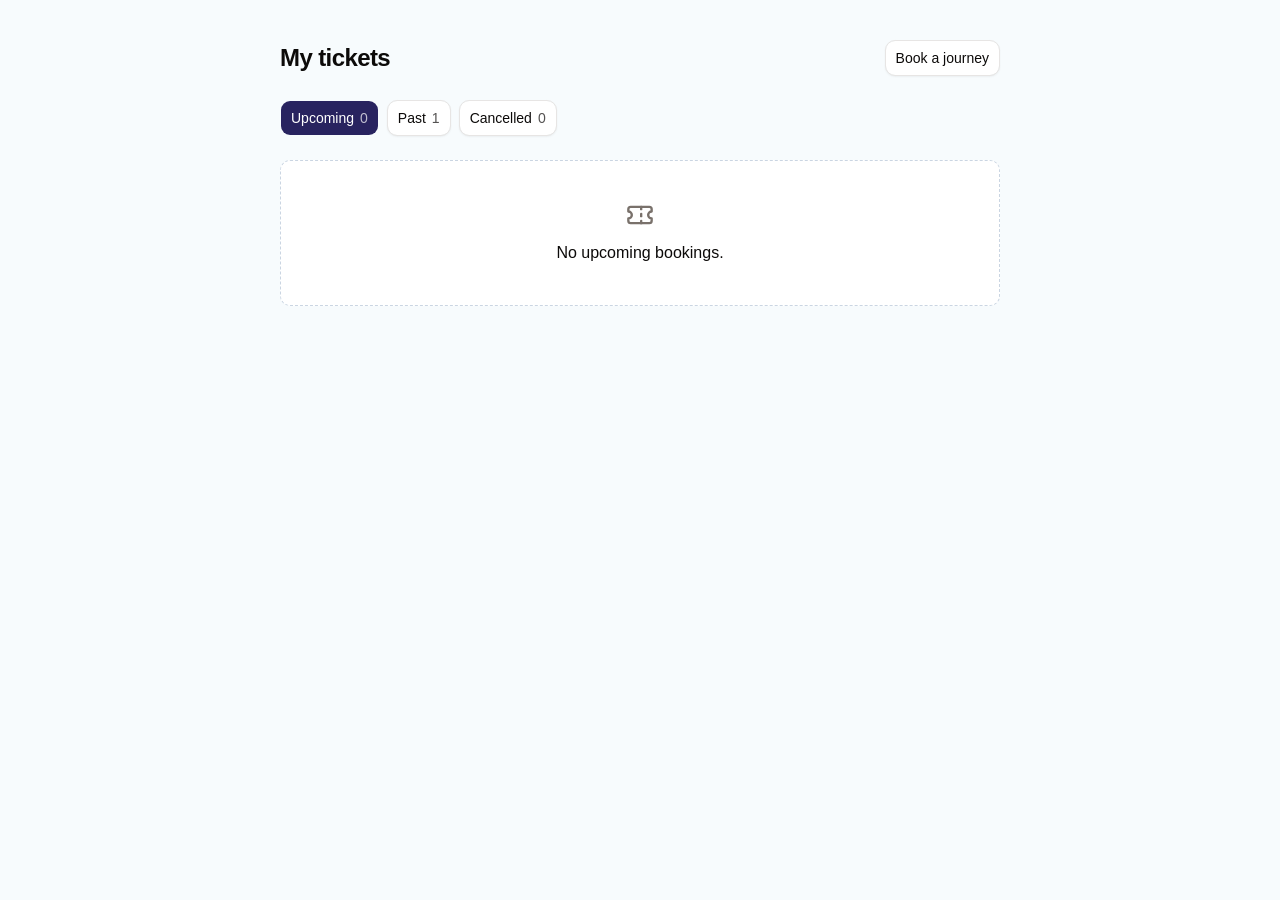
MyTicketsPage › shows booking details without a QR code for a ticket that cannot be used to board
What coordinates should you click on to do the following:
click the button "Past 1"
I would click on:
 (419, 118)
Its box is [387,100,451,136].
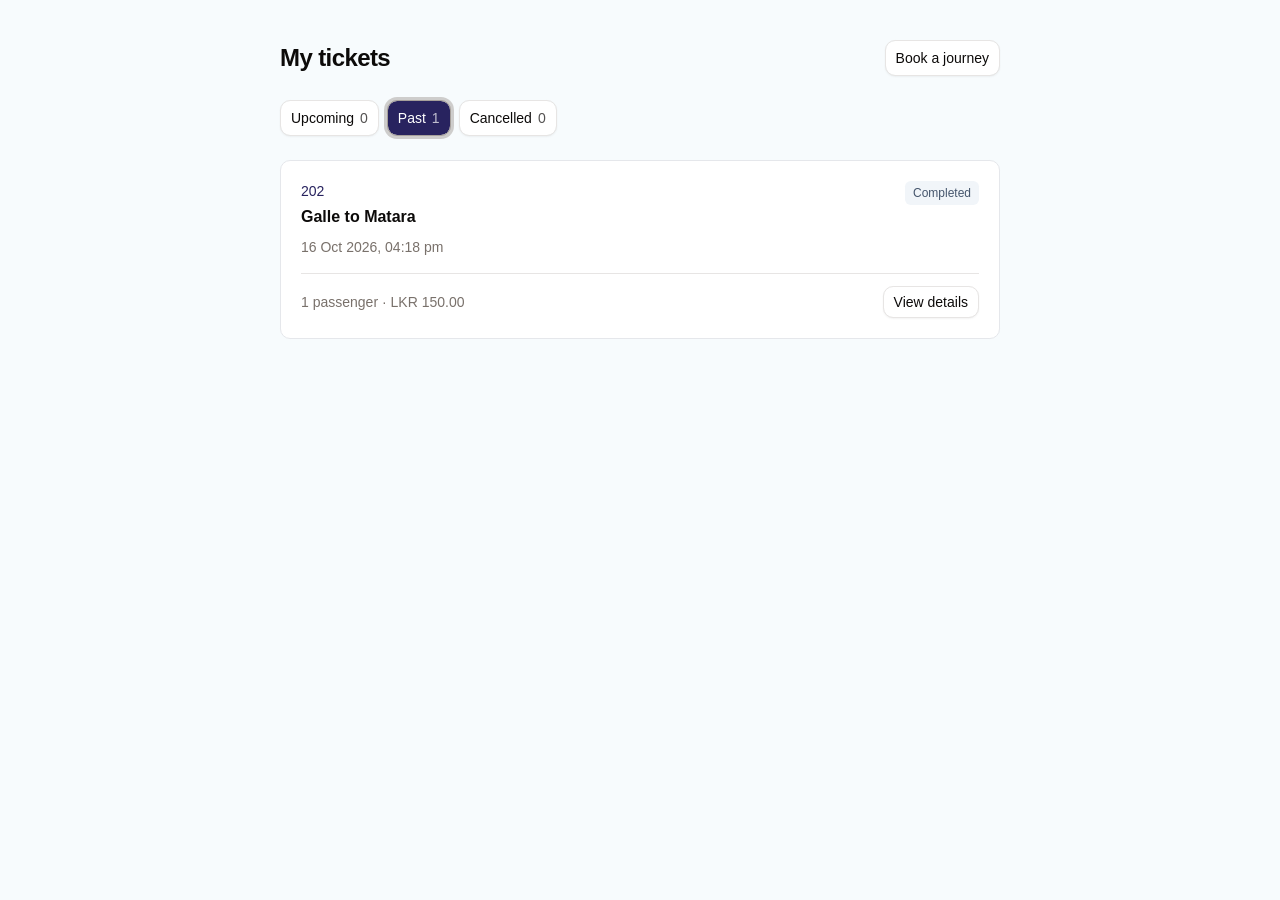
Expected: the heading "Galle to Matara" is shown, [301,208,416,225]
What coordinates should you click on to do the following:
click the button "View details"
I would click on:
 (931, 302)
Its box is [882,286,979,318].
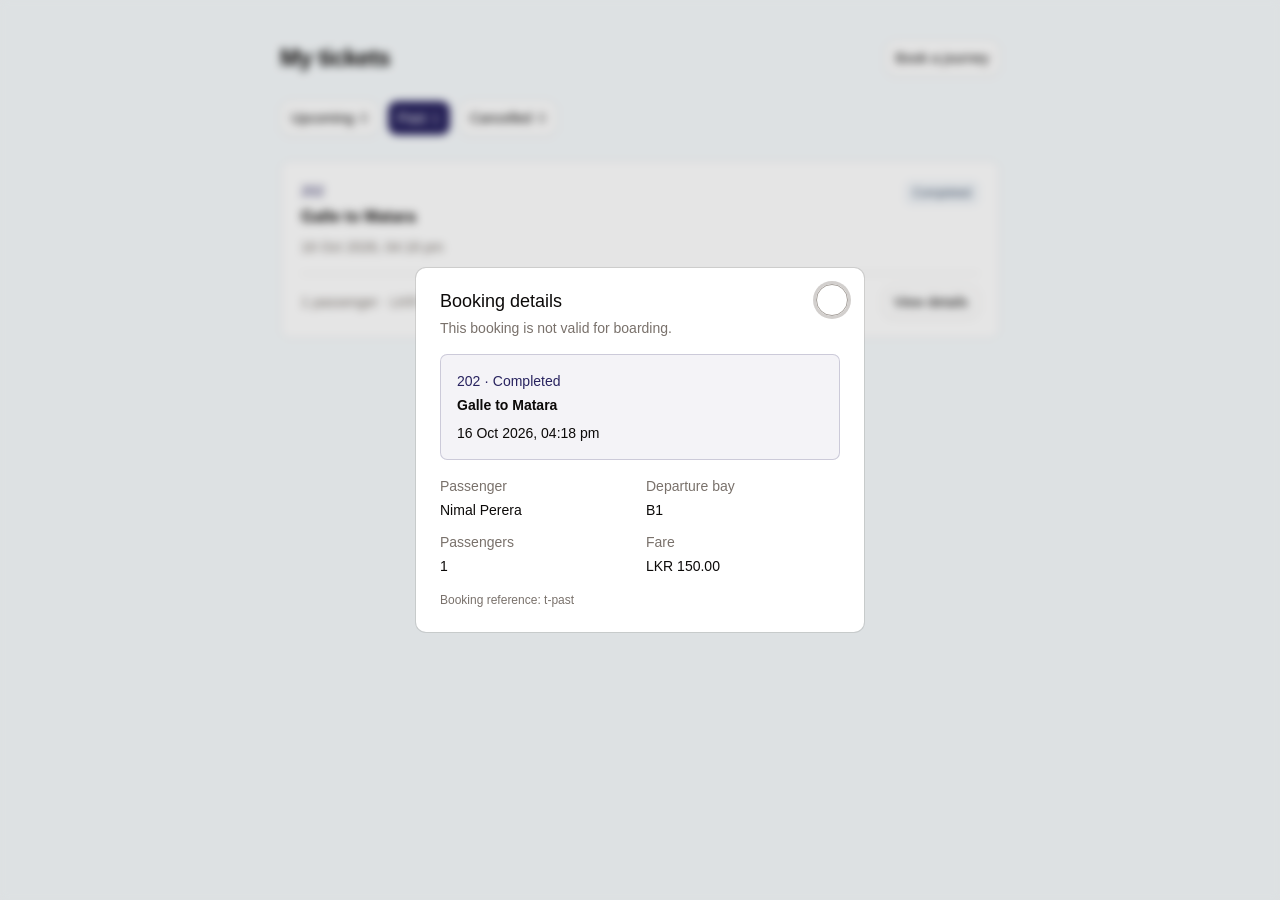
Expected: the text "This booking is not valid for boarding." is shown, [440,320,672,336]
